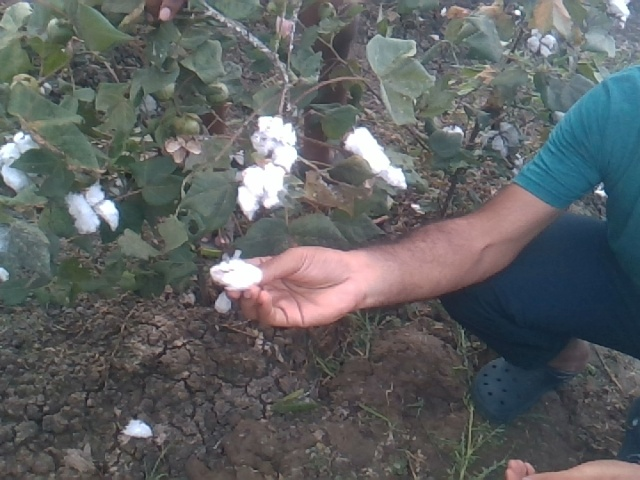cotton: (341, 127, 411, 193), (66, 178, 120, 234), (208, 256, 261, 313), (254, 112, 302, 168), (240, 163, 285, 220), (1, 130, 41, 193), (478, 121, 521, 158), (525, 25, 557, 59), (121, 416, 153, 441), (439, 122, 467, 145), (1, 266, 12, 283), (38, 81, 52, 93)
